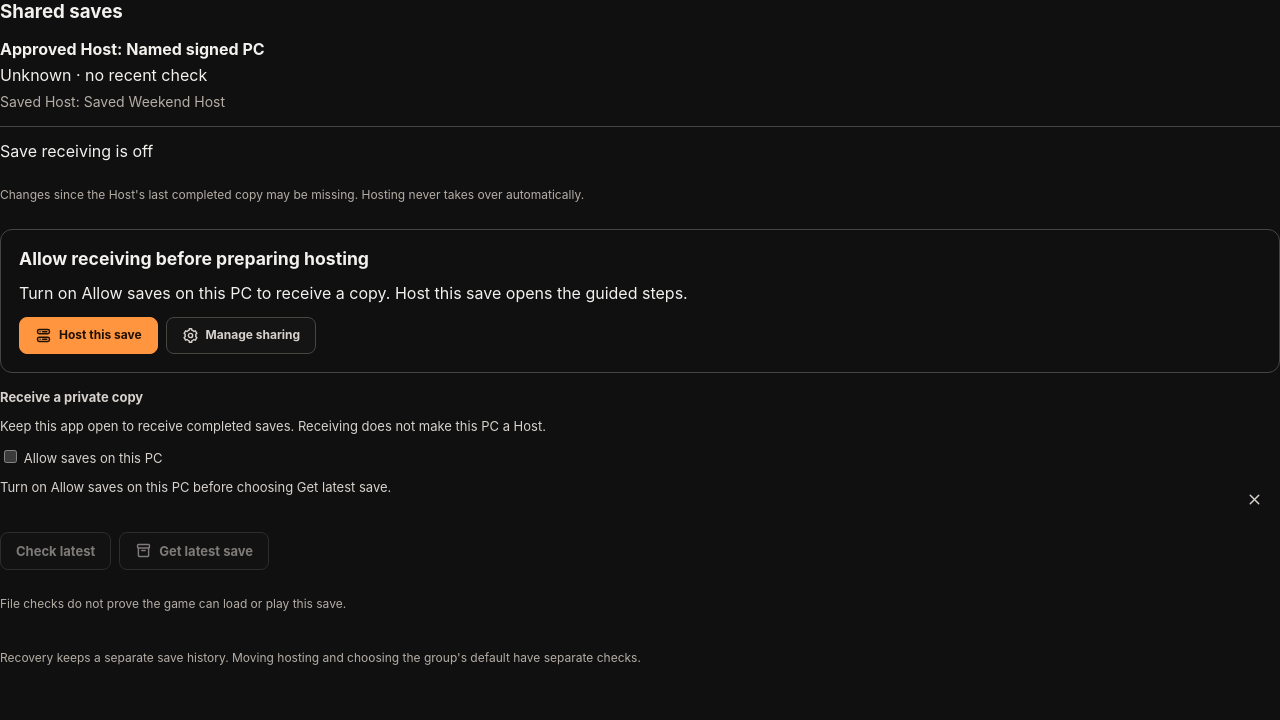
Test: Shared saves task presentation › omits only the repeated world heading and keeps named identity, receiving consent and management
Expected: the heading "Shared saves" is shown, [0,0,123,23]
Expected: the element labelled "Approved Host" shows "Approved Host: Named signed PC", [0,39,265,110]
Click the button "Host this save".
click(88, 336)  # box [19,317,158,354]
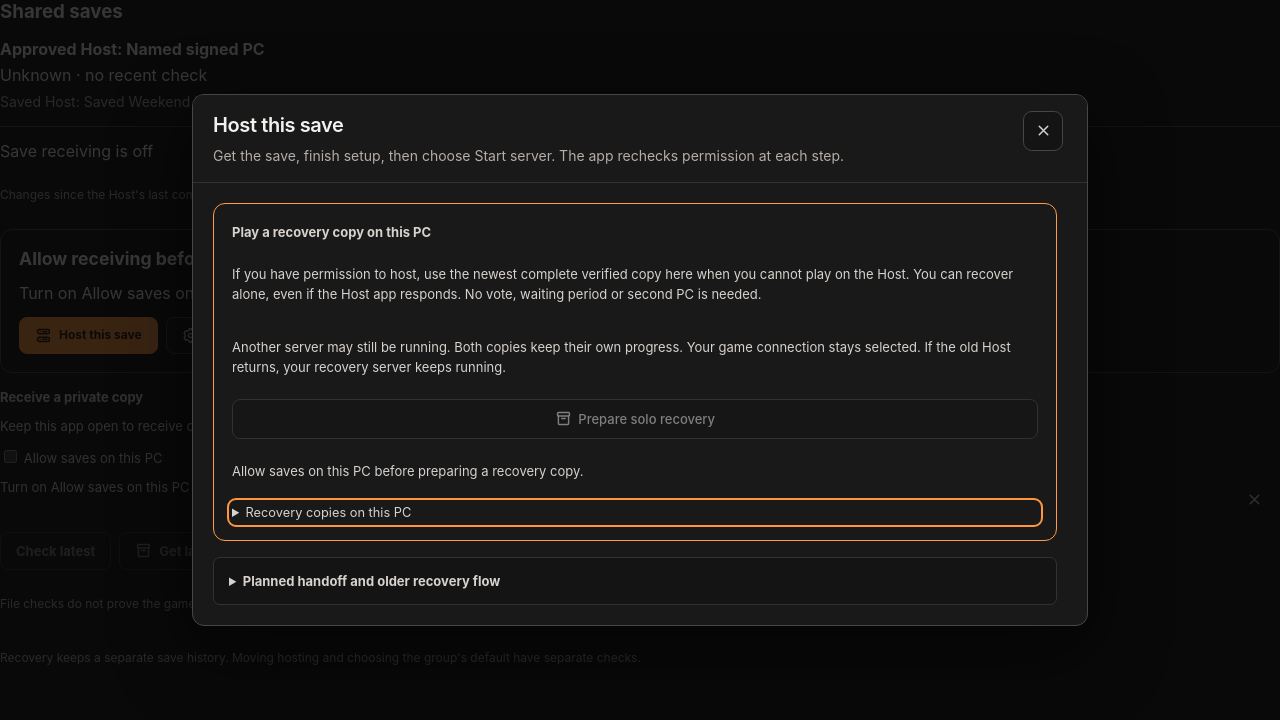
Now the button "Prepare solo recovery" is disabled, box [232,399,1038,439]
Click the heading "Planned handoff and older recovery flow".
click(372, 581)  # box [243,573,500,589]
(page scrolled)
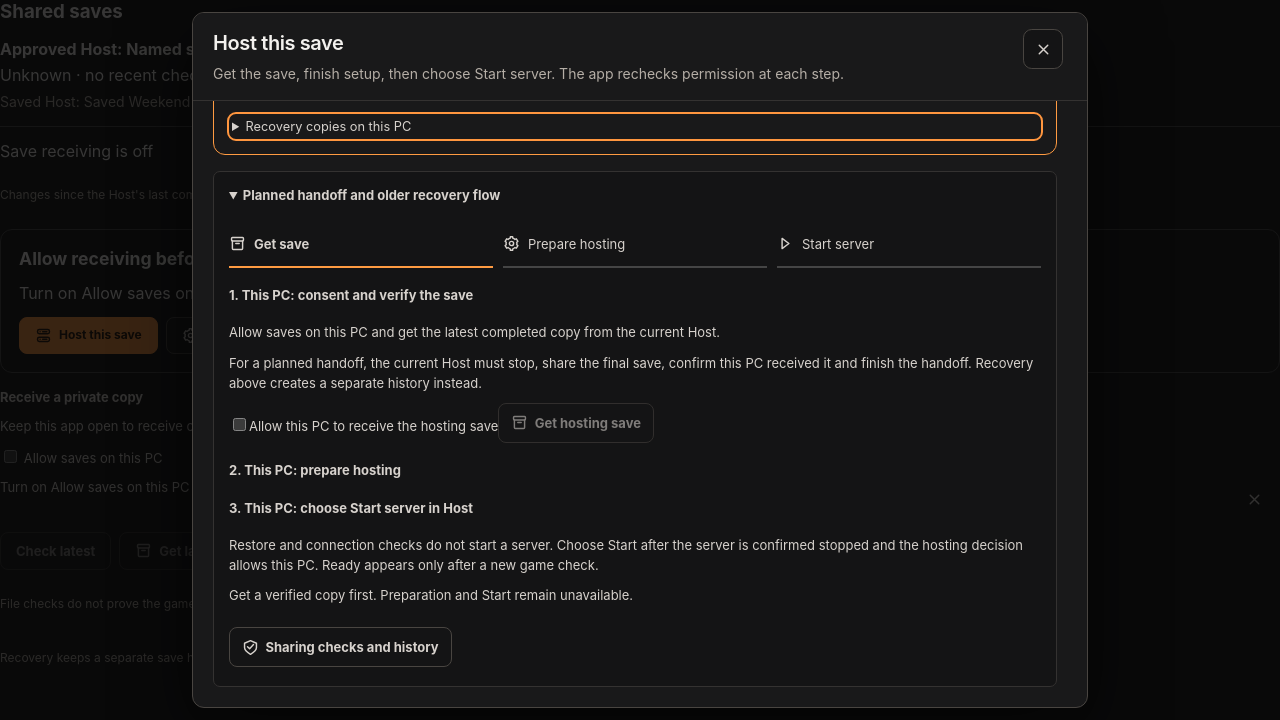
Now the button "Get hosting save" is disabled, box [498,403,654,443]
Now the checkbox labelled "Allow this PC to receive the hosting save" is not checked, box [233,418,246,431]
